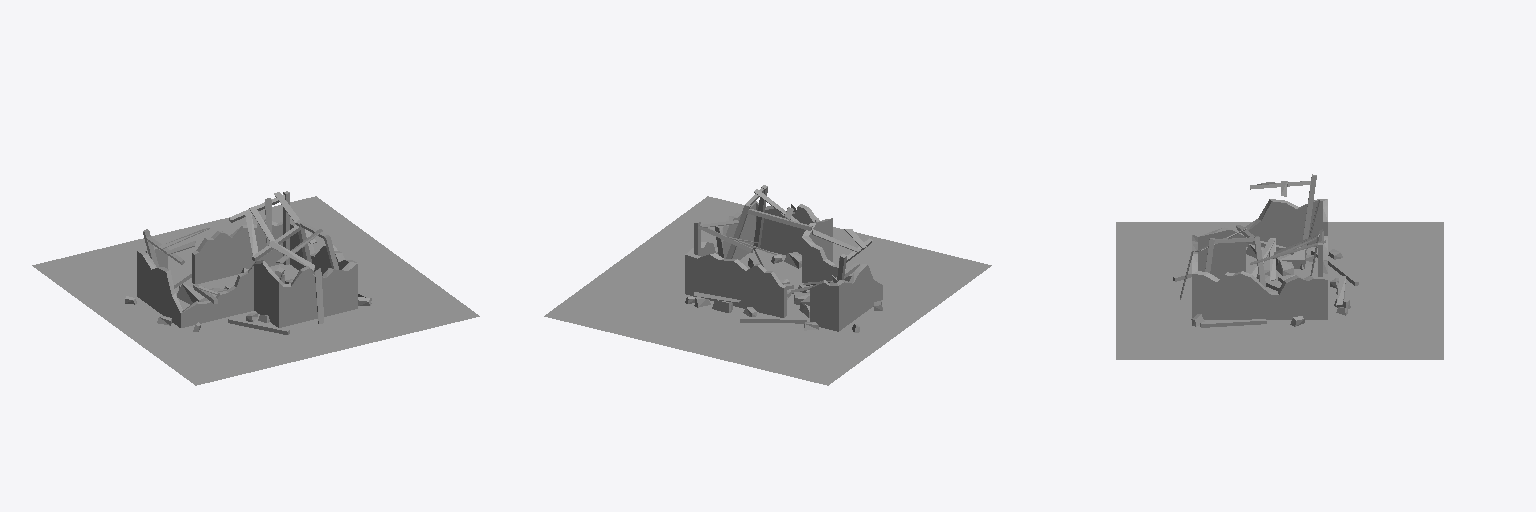
File: house.obj
The picture shows the model from 3 angles: view 1: azimuth 30°, elevation 25°; view 2: azimuth 150°, elevation 25°; view 3: azimuth 270°, elevation 25°; orthographic projection.
Parts seen in each view (by area): view 1: Plane_Plane.003, Cube_Cube.003, Cube.028_Cube.005; view 2: Plane_Plane.003, Cube_Cube.003, Cube.028_Cube.005; view 3: Plane_Plane.003, Cube_Cube.003, Cube.028_Cube.005.
Boxes of the visible parts, <box> form: Plane_Plane.003: <box>32,196,479,385</box>; Cube_Cube.003: <box>125,219,371,331</box>; Cube.028_Cube.005: <box>143,191,371,334</box>; Plane_Plane.003: <box>544,196,991,385</box>; Cube_Cube.003: <box>685,201,882,332</box>; Cube.028_Cube.005: <box>693,185,872,323</box>; Plane_Plane.003: <box>1116,222,1443,359</box>; Cube_Cube.003: <box>1191,199,1350,326</box>; Cube.028_Cube.005: <box>1173,174,1358,327</box>.
Size of the model in its own units: 7.48 by 1.94 by 7.48.